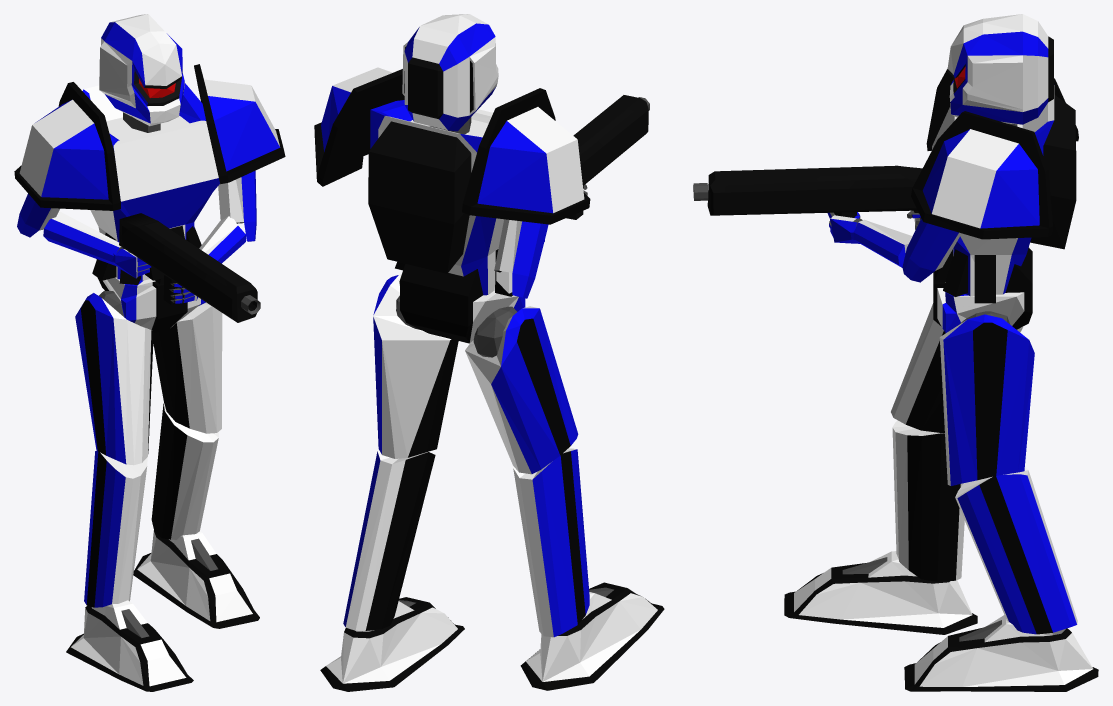
Rendered from robots_000013.obj.
3 renders of one model, left to right at view 1: azimuth 30°, elevation 25°; view 2: azimuth 150°, elevation 25°; view 3: azimuth 270°, elevation 25°, orthographic. The views are drawn at different scales.
Visible parts, largest first — view 1: Chest_plate_Cube.004, R_Thigh_Cube.005, Cube.002_Cube.059, Head_base_Cube.022, R_Shin_Cube.007, R_Thigh.002_Cube.027, R_Foot.002_Cube.035, Cube_Cube.001, R_Foot_Cube, R_Shin.002_Cube.029, Cube_Cube.021, Pelvis_Cube.006 (+5 smaller); view 2: Chest_plate_Cube.004, Cube.002_Cube.059, R_Thigh_Cube.005, R_Thigh.002_Cube.027, R_Shin_Cube.007, R_Shin.002_Cube.029, Head_base_Cube.022, R_Foot_Cube, R_Foot.002_Cube.035, Cube_Cube.021, Pelvis_Cube.006, Cube_Cube.001 (+2 smaller); view 3: Cube_Cube.021, R_Thigh.002_Cube.027, R_Shin.002_Cube.029, R_Foot.002_Cube.035, R_Foot_Cube, Head_base_Cube.022, Cube_Cube.001, Chest_plate_Cube.004, R_Shin_Cube.007, R_Thigh_Cube.005, Pelvis_Cube.006, L_Arm_Cube.014 (+3 smaller).
Part boxes in pixels (box(x1,y1,x2,y2)): Chest_plate_Cube.004: box(82, 83, 219, 284); R_Thigh_Cube.005: box(75, 293, 153, 465); Cube.002_Cube.059: box(14, 82, 120, 210); Head_base_Cube.022: box(99, 14, 184, 126); R_Shin_Cube.007: box(84, 451, 147, 607); R_Thigh.002_Cube.027: box(153, 302, 222, 433); R_Foot.002_Cube.035: box(133, 531, 259, 628); Cube_Cube.001: box(119, 213, 260, 322); R_Foot_Cube: box(66, 600, 193, 691); R_Shin.002_Cube.029: box(151, 402, 218, 539); Cube_Cube.021: box(194, 64, 285, 184); Pelvis_Cube.006: box(96, 259, 205, 332); Chest_plate_Cube.004: box(368, 100, 512, 296); Cube.002_Cube.059: box(462, 88, 590, 224); R_Thigh_Cube.005: box(465, 306, 578, 474); R_Thigh.002_Cube.027: box(373, 274, 458, 458); R_Shin_Cube.007: box(513, 448, 589, 637); R_Shin.002_Cube.029: box(343, 447, 435, 630); Head_base_Cube.022: box(402, 14, 498, 131); R_Foot_Cube: box(520, 582, 664, 690); R_Foot.002_Cube.035: box(320, 597, 464, 691); Cube_Cube.021: box(314, 67, 404, 186); Pelvis_Cube.006: box(398, 264, 525, 343); Cube_Cube.001: box(566, 95, 649, 219); Cube_Cube.021: box(911, 111, 1052, 239); R_Thigh.002_Cube.027: box(939, 314, 1034, 485); R_Shin.002_Cube.029: box(955, 467, 1077, 634); R_Foot.002_Cube.035: box(904, 615, 1098, 691); R_Foot_Cube: box(784, 551, 977, 634); Head_base_Cube.022: box(947, 14, 1053, 124); Cube_Cube.001: box(693, 165, 922, 219); Chest_plate_Cube.004: box(932, 85, 1076, 303); R_Shin_Cube.007: box(892, 420, 964, 581); R_Thigh_Cube.005: box(891, 303, 1023, 433); Pelvis_Cube.006: box(933, 247, 1032, 332); L_Arm_Cube.014: box(902, 218, 961, 282).
Bounding box in the file's own units: 1.32 × 3.05 × 1.77.
